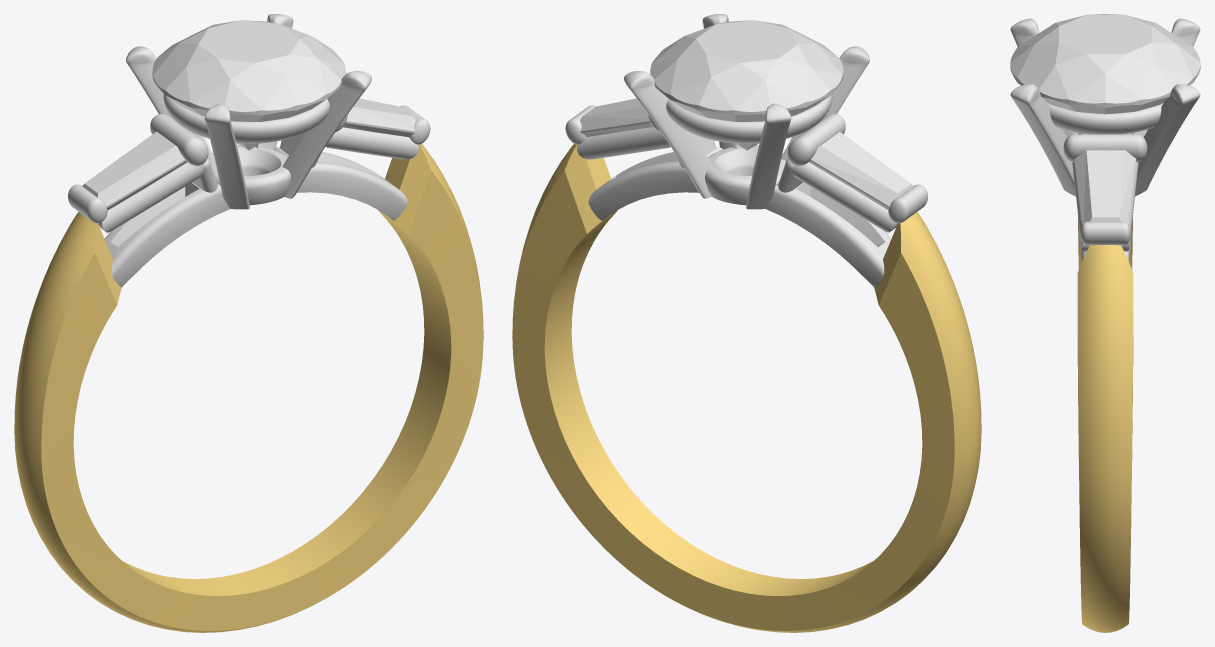
File: Liamv2YGPT_blender.glb
The picture shows the model from 3 angles, left to right: view 1: azimuth 30°, elevation 25°; view 2: azimuth 150°, elevation 25°; view 3: azimuth 270°, elevation 25°; orthographic projection.
Visible parts, largest first — view 1: v2 YG for 3d model, v2 PT for 3d model, center dia for 3d model, tapered dia v2 for 3d model, tapered dia v2 for 3d model.001; view 2: v2 YG for 3d model, v2 PT for 3d model, center dia for 3d model, tapered dia v2 for 3d model, tapered dia v2 for 3d model.001; view 3: v2 YG for 3d model, center dia for 3d model, v2 PT for 3d model, tapered dia v2 for 3d model.001.
Boxes of the visible parts, x1,y1,x2,y2 form: v2 YG for 3d model: (14, 144, 483, 632); v2 PT for 3d model: (68, 14, 430, 287); center dia for 3d model: (152, 20, 345, 150); tapered dia v2 for 3d model: (82, 131, 186, 209); tapered dia v2 for 3d model.001: (343, 98, 415, 136); v2 YG for 3d model: (512, 144, 981, 632); v2 PT for 3d model: (565, 14, 927, 287); center dia for 3d model: (650, 20, 843, 150); tapered dia v2 for 3d model: (809, 131, 913, 209); tapered dia v2 for 3d model.001: (580, 98, 652, 136); v2 YG for 3d model: (1077, 218, 1133, 632); center dia for 3d model: (1010, 14, 1200, 114); v2 PT for 3d model: (1010, 18, 1200, 262); tapered dia v2 for 3d model.001: (1074, 150, 1136, 224).
Bounding box in the file's own units: 20.52 × 24.96 × 7.5.
